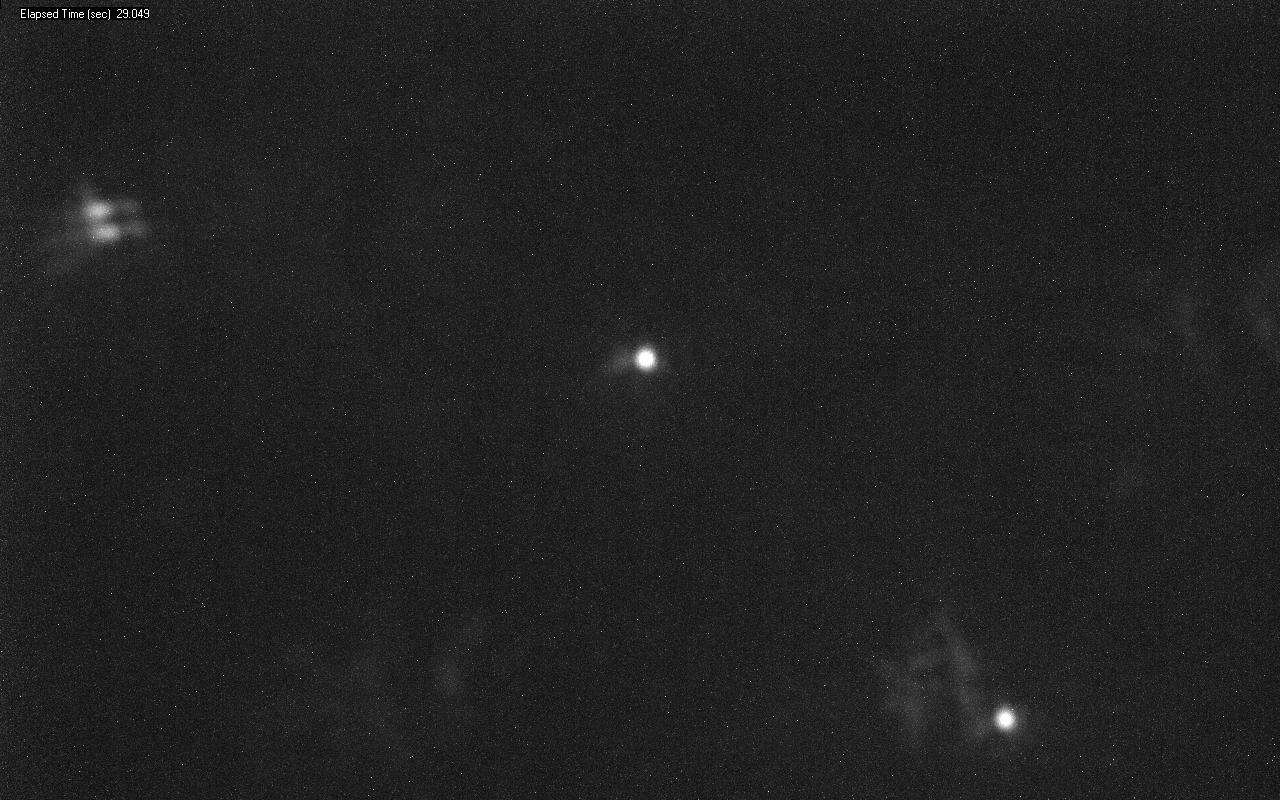Bead: (993, 706, 1019, 733), (634, 347, 657, 371)
